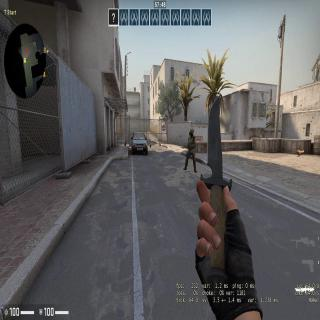CT-Body: (185, 127, 198, 163)
CT-Head: (190, 128, 194, 137)
